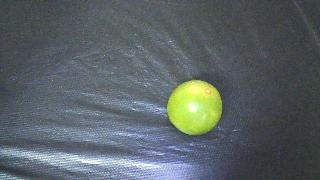LOCAL: (167, 80, 222, 135)
